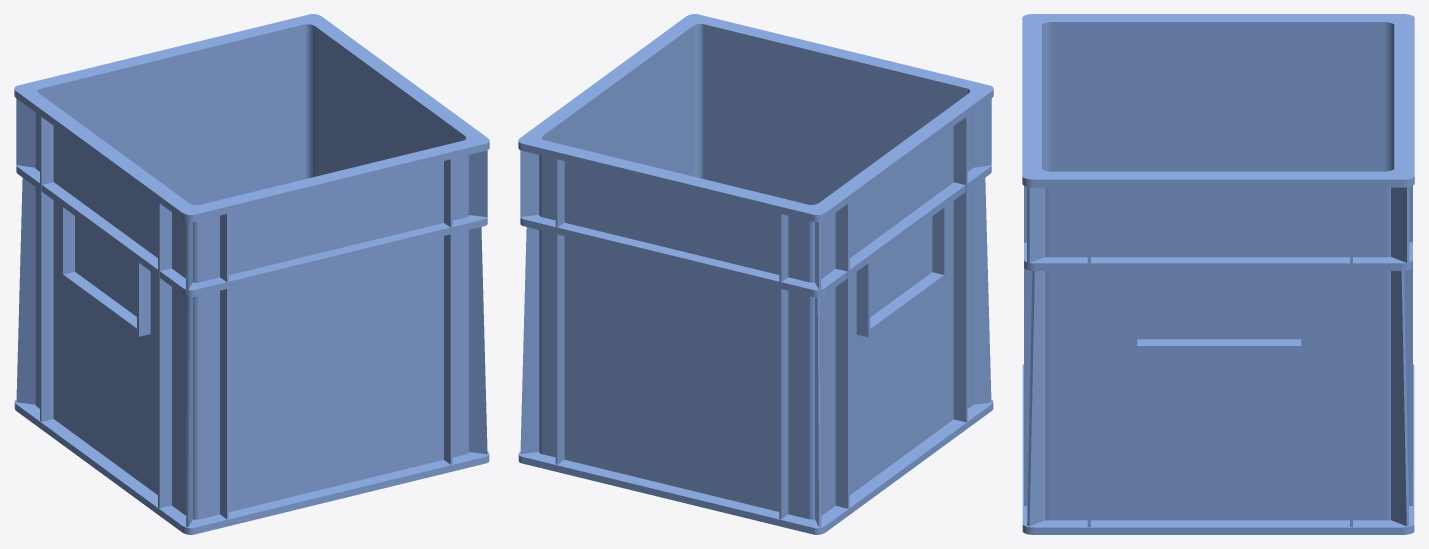
The picture shows the model from 3 angles, left to right: view 1: azimuth 30°, elevation 25°; view 2: azimuth 150°, elevation 25°; view 3: azimuth 270°, elevation 25°; orthographic projection. The views are drawn at different scales.
Visible parts, largest first — view 1: Box_Mesh; view 2: Box_Mesh; view 3: Box_Mesh.
Part boxes in pixels (left/top/right/bottom): Box_Mesh: left=14, top=14, right=489, bottom=534; Box_Mesh: left=518, top=14, right=993, bottom=534; Box_Mesh: left=1022, top=14, right=1414, bottom=534.
Bounding box in the file's own units: 1 × 1 × 1.
